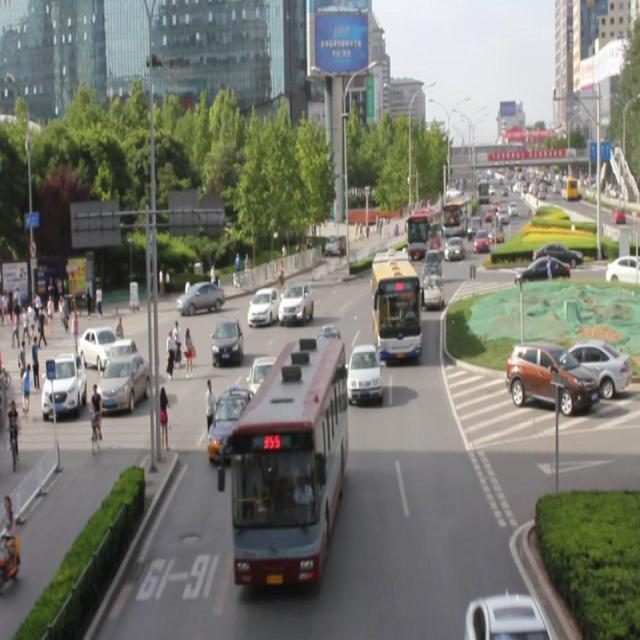car: (206, 384, 256, 468), (248, 356, 284, 417), (348, 345, 381, 403), (307, 327, 344, 375), (277, 280, 314, 326), (210, 317, 244, 367), (247, 285, 280, 327), (421, 273, 443, 309), (422, 249, 441, 282)
van: (233, 337, 344, 583), (371, 248, 421, 362)
